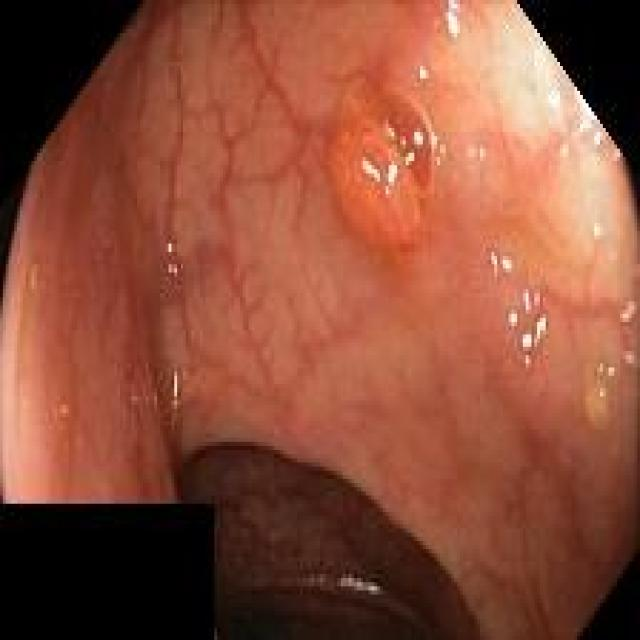Polyps: (329, 76, 436, 247)
